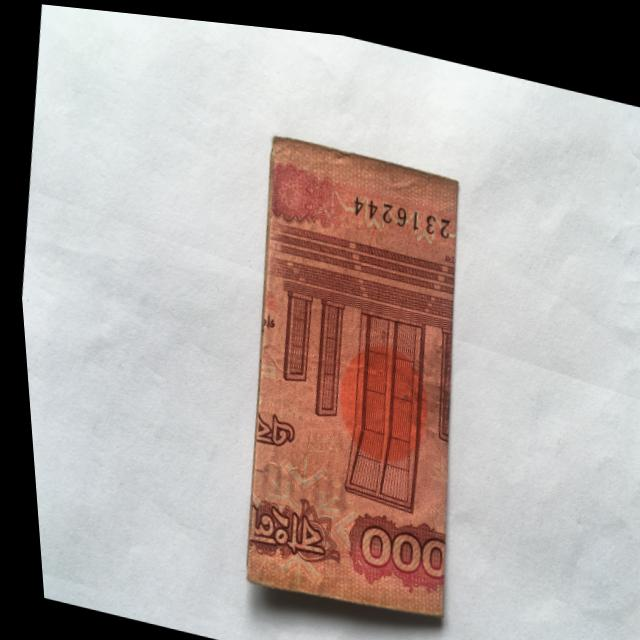Taka: (201, 112, 502, 630)
